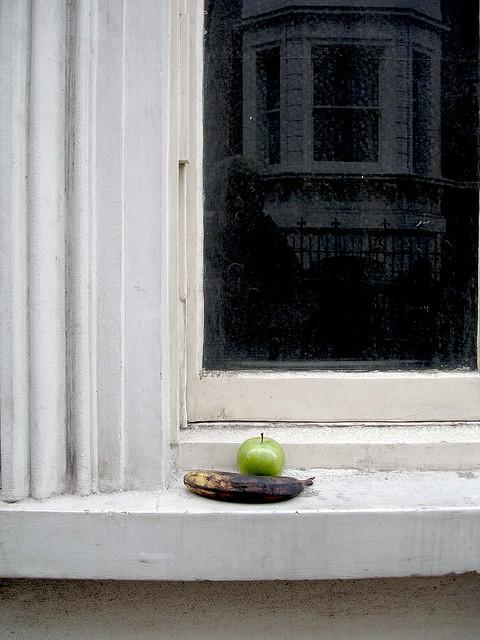apple: (237, 432, 285, 476)
banana: (183, 470, 316, 504)
